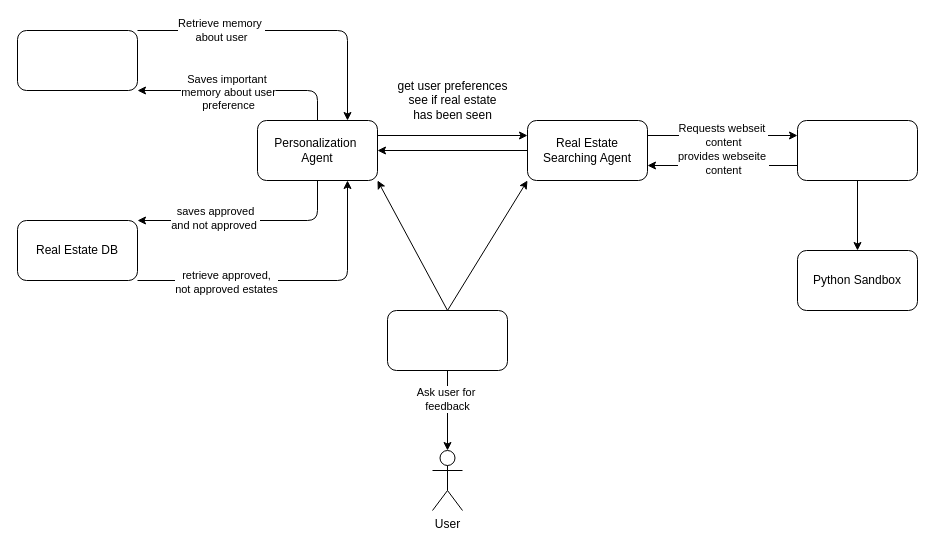
Image size: 935x549. Some labels were removed from this diagram. Each missing label, with the centre of its shape:
"Browsing Agent" belongs at pixel 857 150.
"Memory.md" belongs at pixel 77 60.
"Orchestration Agent" belongs at pixel 447 340.
